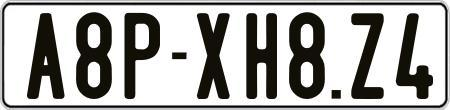4: (393, 12, 434, 103)
8: (286, 10, 328, 98), (73, 9, 111, 97)
A: (27, 11, 67, 101)
H: (245, 11, 276, 99)
P: (125, 12, 160, 103)
X: (194, 11, 232, 100)
Z: (349, 11, 386, 103)
